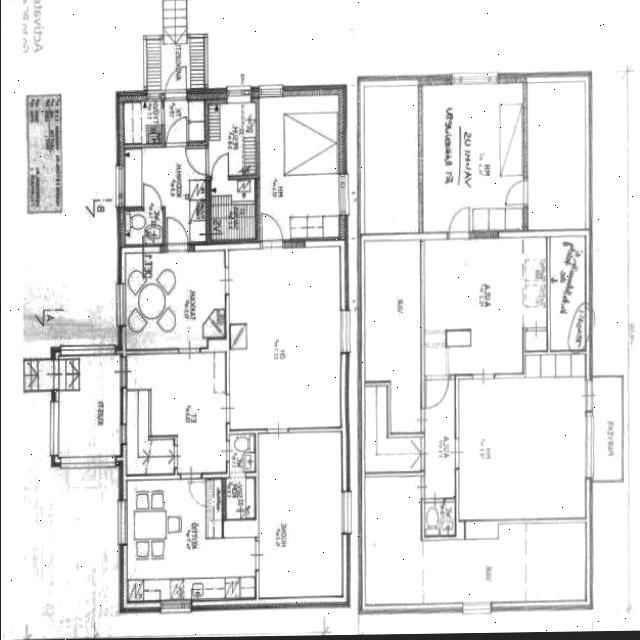room: (363, 474, 585, 604), (228, 249, 340, 429), (456, 378, 586, 520), (424, 237, 545, 375), (123, 478, 255, 601), (423, 84, 522, 232), (258, 432, 341, 598), (259, 97, 337, 240), (125, 251, 224, 350), (527, 82, 584, 230), (58, 355, 120, 457), (207, 103, 255, 175), (210, 180, 254, 240), (225, 434, 255, 520), (165, 101, 204, 142), (123, 102, 160, 144), (124, 211, 162, 245), (424, 503, 455, 536)
